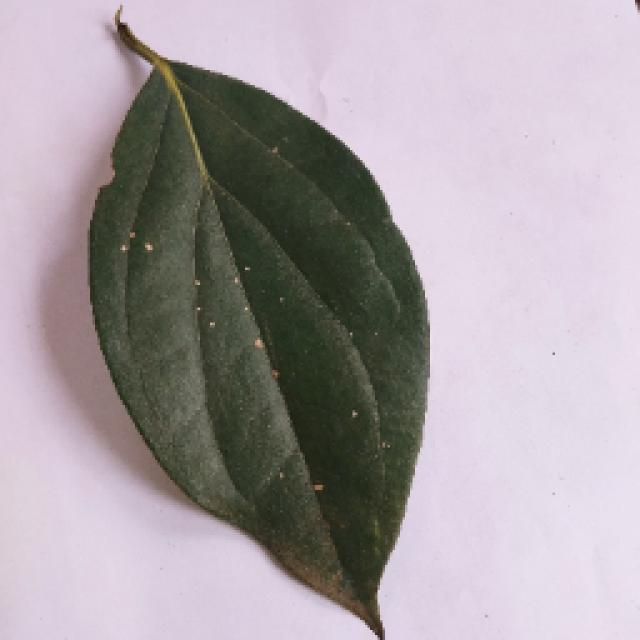pollu-disease: (70, 22, 435, 628)
